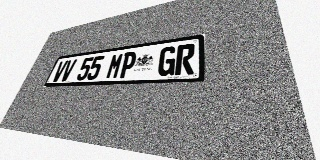5: (86, 55, 105, 80), (75, 57, 94, 81)
G: (156, 46, 177, 76)
M: (105, 53, 124, 79)
P: (118, 51, 138, 78)
R: (174, 43, 195, 75)
V: (59, 59, 77, 82), (51, 60, 68, 82)
